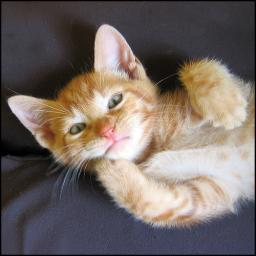catnose: (100, 126, 116, 141)
